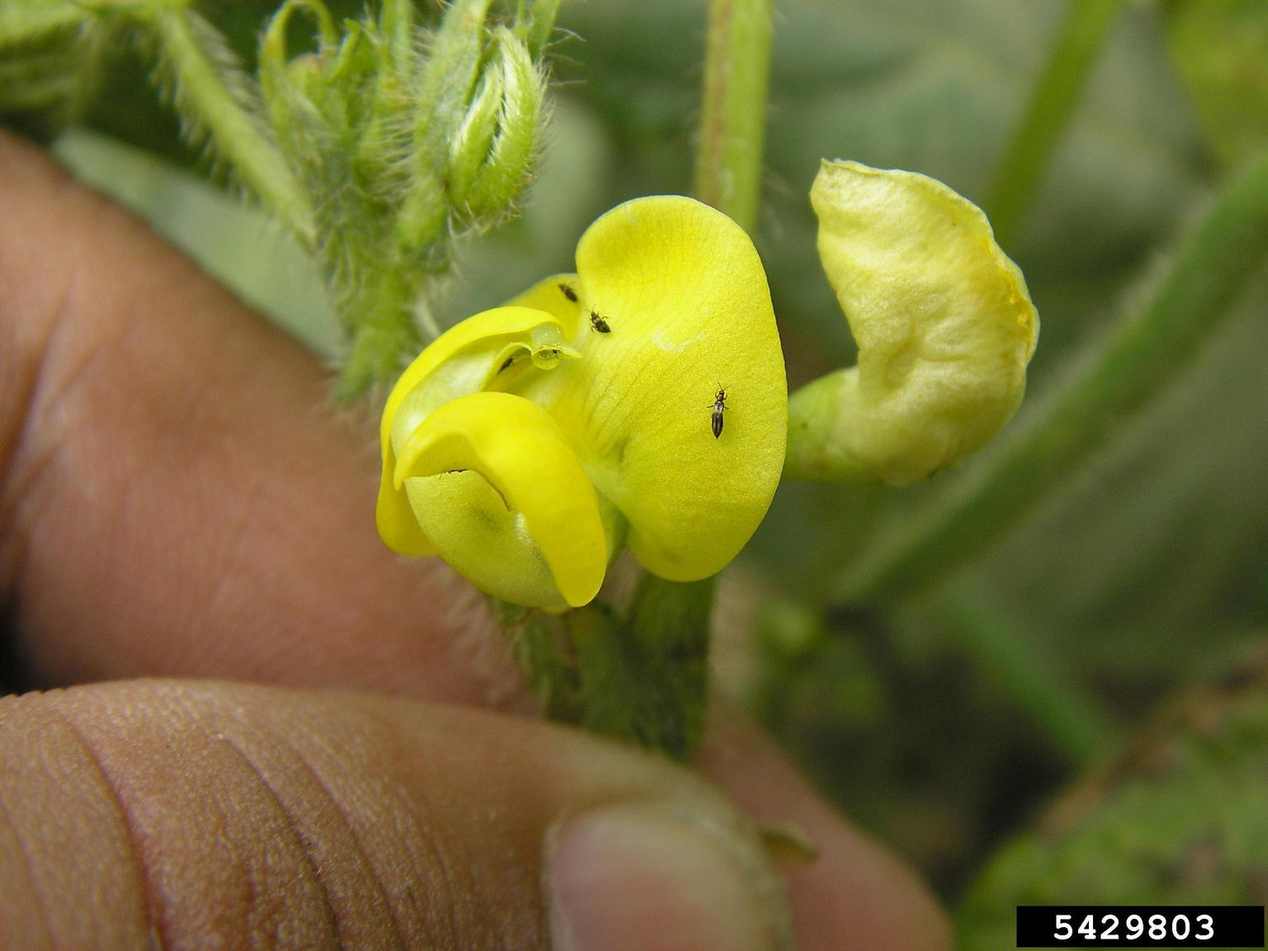Thripidae: (704, 376, 727, 443), (586, 306, 611, 341), (558, 282, 582, 312)
